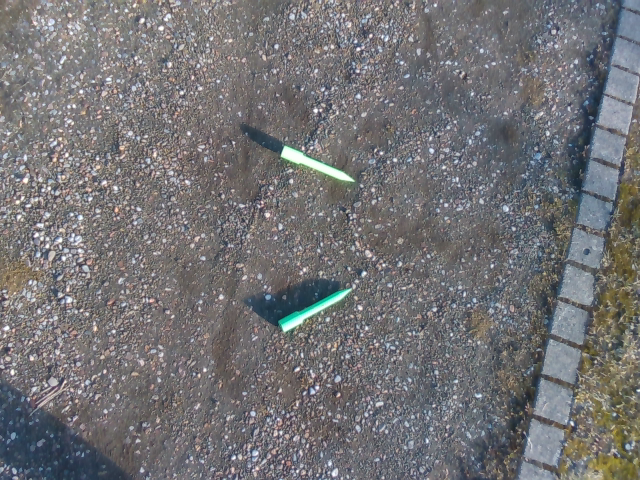Probe: (275, 284, 353, 336), (277, 141, 361, 186)
